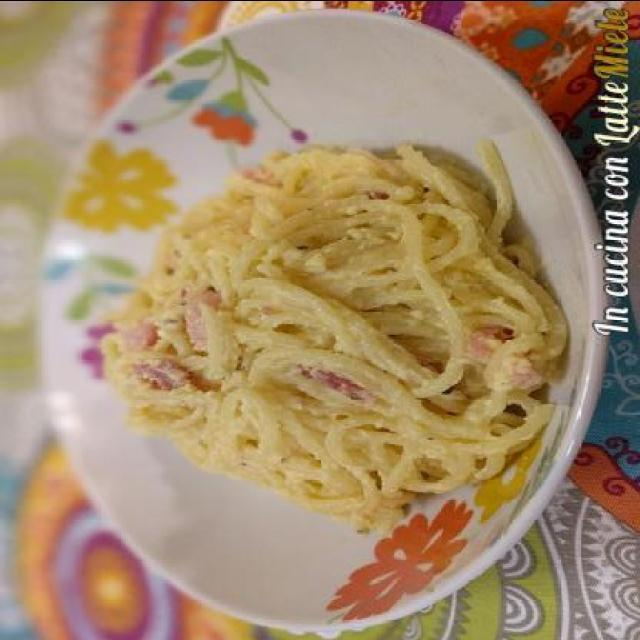Pasta with carbonara sauce: (78, 72, 542, 532)
